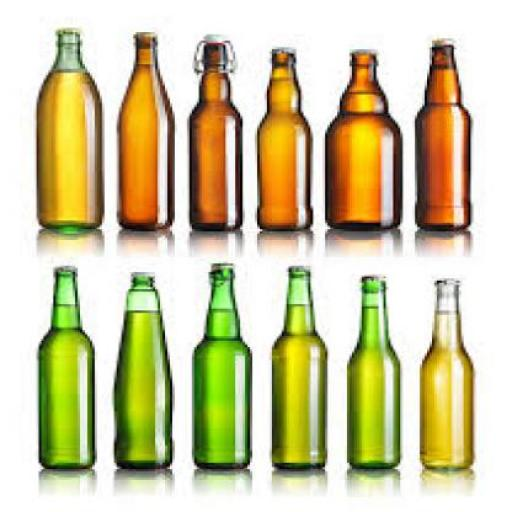glass: (32, 30, 102, 227), (325, 48, 400, 230), (114, 34, 173, 229), (191, 266, 248, 466), (112, 272, 170, 468), (269, 266, 325, 465), (344, 274, 401, 469), (412, 38, 469, 230), (38, 270, 92, 470), (417, 279, 474, 467), (254, 47, 313, 227), (186, 38, 240, 230)
metal: (430, 276, 459, 285), (286, 264, 311, 274), (131, 30, 158, 39), (430, 34, 452, 45), (204, 262, 233, 270), (359, 272, 383, 281), (53, 26, 77, 34), (54, 264, 73, 274), (347, 46, 377, 52), (266, 45, 288, 51)
